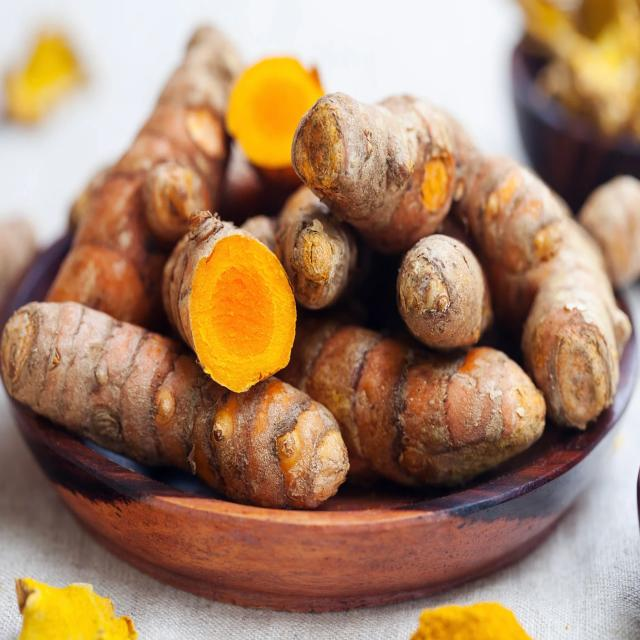turmeric: (293, 87, 632, 488), (6, 301, 338, 530), (161, 209, 301, 383)
